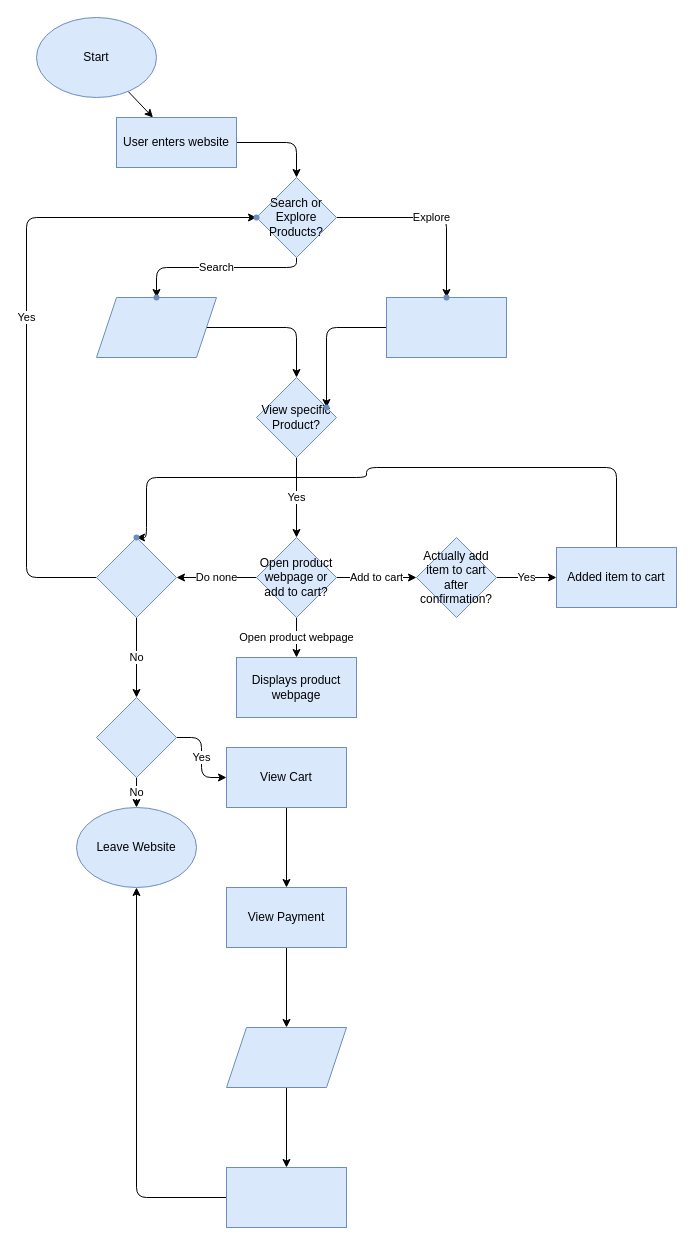
Some shapes in this 694 by 1245 pixel diagram are drawn without their labels. Here are the shapes that lost their labels. From the top down, the box of each, then its label:
(96, 296, 216, 358): User inputs product they want
(386, 296, 506, 358): User begins looking over products
(96, 536, 176, 618): Continue shopping?
(96, 696, 176, 778): Checkout?
(226, 1026, 346, 1088): Input Payment Information
(226, 1166, 346, 1228): Show order and confirmation screen
